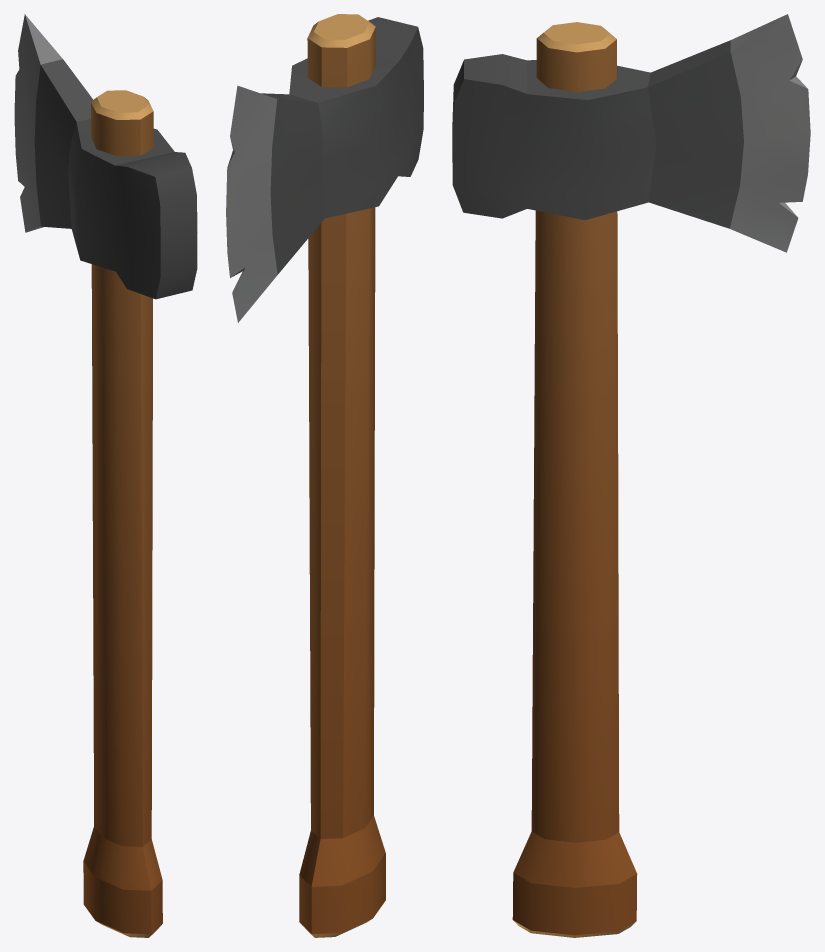
Rendered from Axe_A.glb.
3 renders of one model, left to right at view 1: azimuth 30°, elevation 25°; view 2: azimuth 150°, elevation 25°; view 3: azimuth 270°, elevation 25°, orthographic. The views are drawn at different scales.
Visible parts, largest first — view 1: Axe_A; view 2: Axe_A; view 3: Axe_A.
Boxes of the visible parts, box(x1,y1,x2,y2) form: Axe_A: box(14, 14, 197, 937); Axe_A: box(226, 14, 423, 937); Axe_A: box(452, 14, 810, 937).
Bounding box in the file's own units: 0.0795 × 0.809 × 0.288.
Materials: 2 (2 with a texture image).
